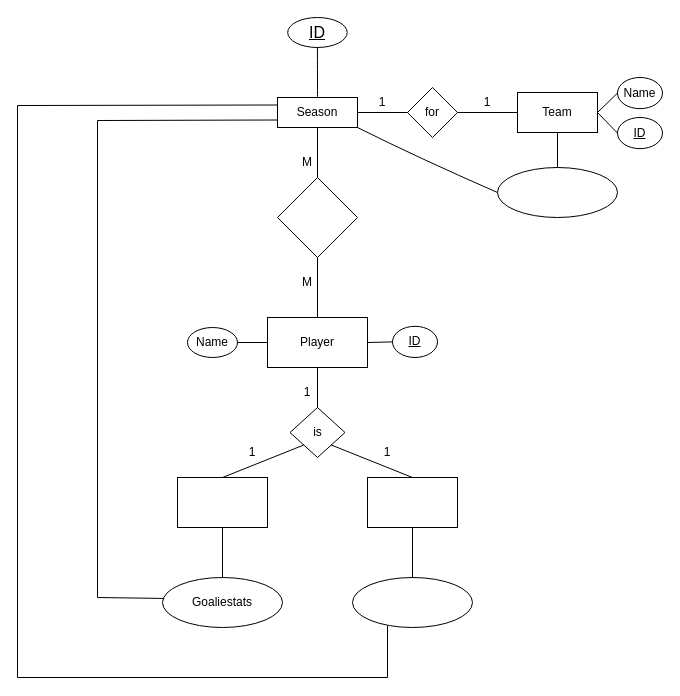
Image size: 680x696. Some labels were removed from this diagram. Each missing label, with the box of its shape:
Goalie: (176, 476, 268, 528)
has played: (276, 176, 358, 258)
Skater: (366, 476, 458, 528)
Skaterstats: (352, 576, 472, 628)
Teamstats: (496, 166, 618, 218)
